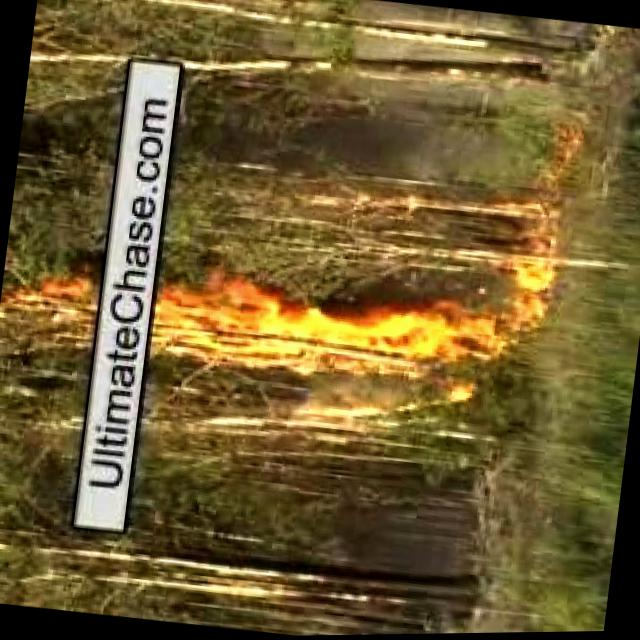helmet: (152, 259, 462, 396), (461, 244, 573, 375), (4, 267, 104, 351)
